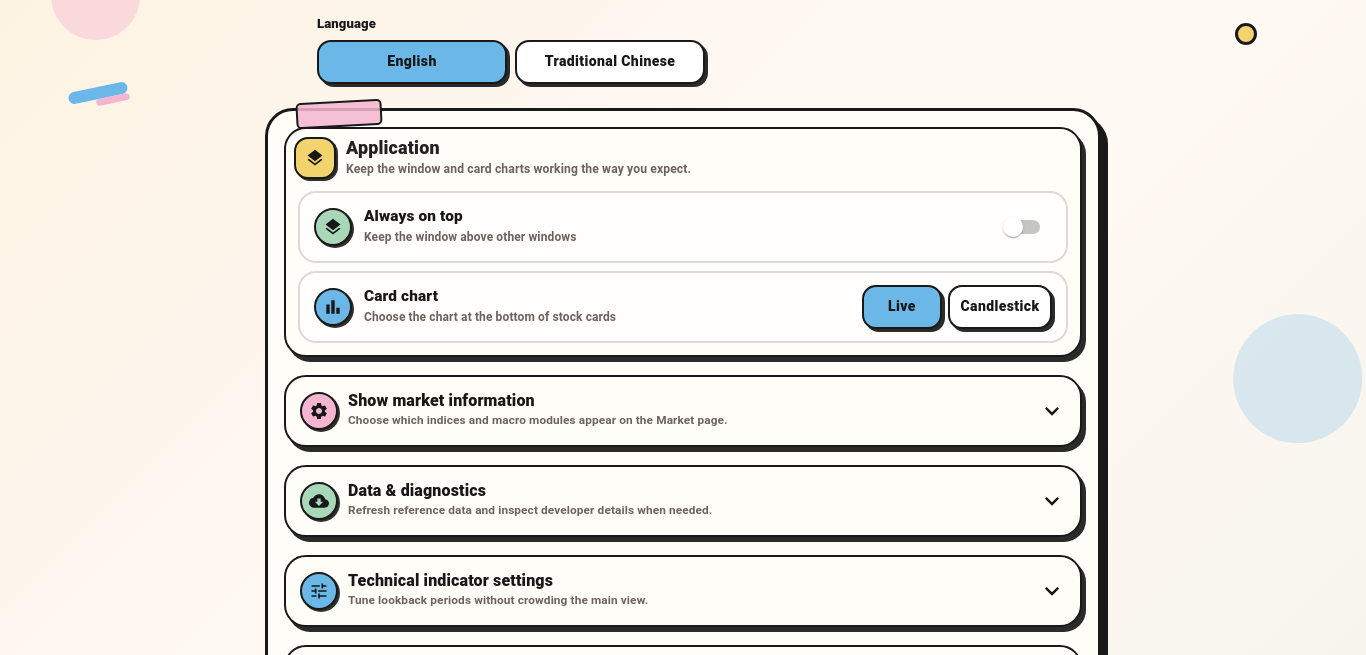
it: Settings page › ignores a same-turn double click while restore is in flight
Click the button "Data & diagnostics": (683, 500) [286,466,1080,534]
(page scrolled)
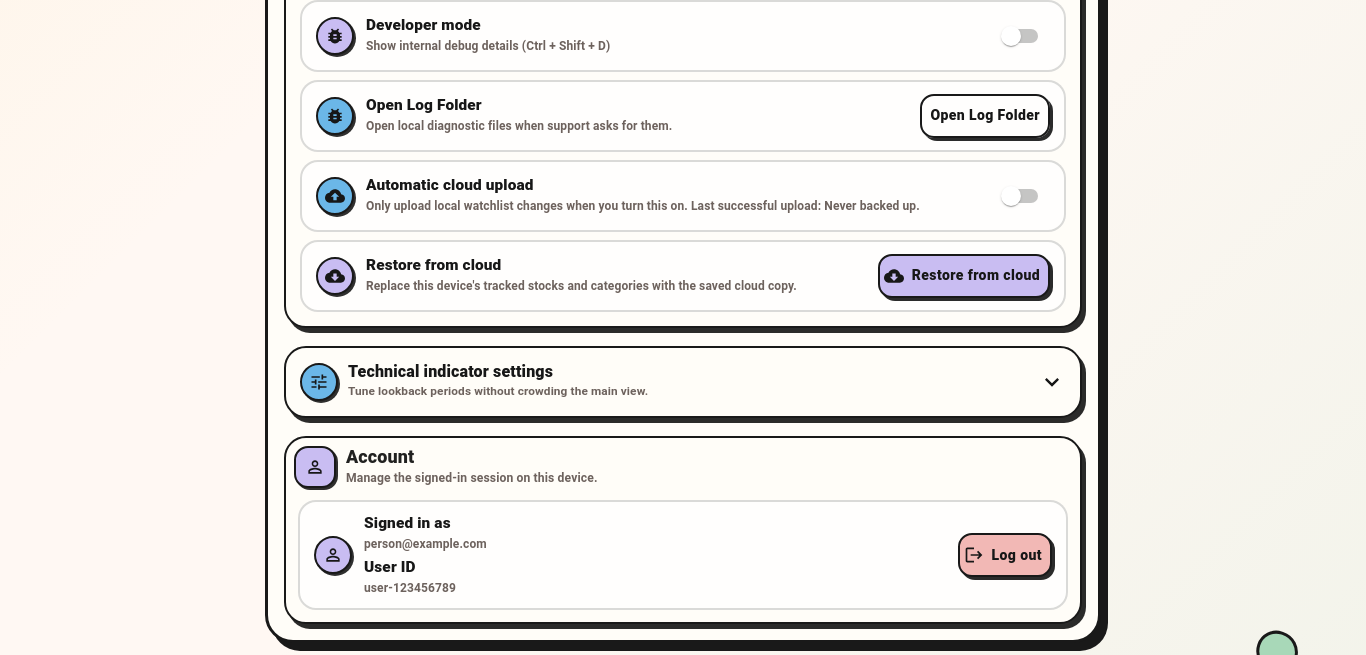
Click the button "Restore from cloud": (964, 276) [878,254,1050,298]
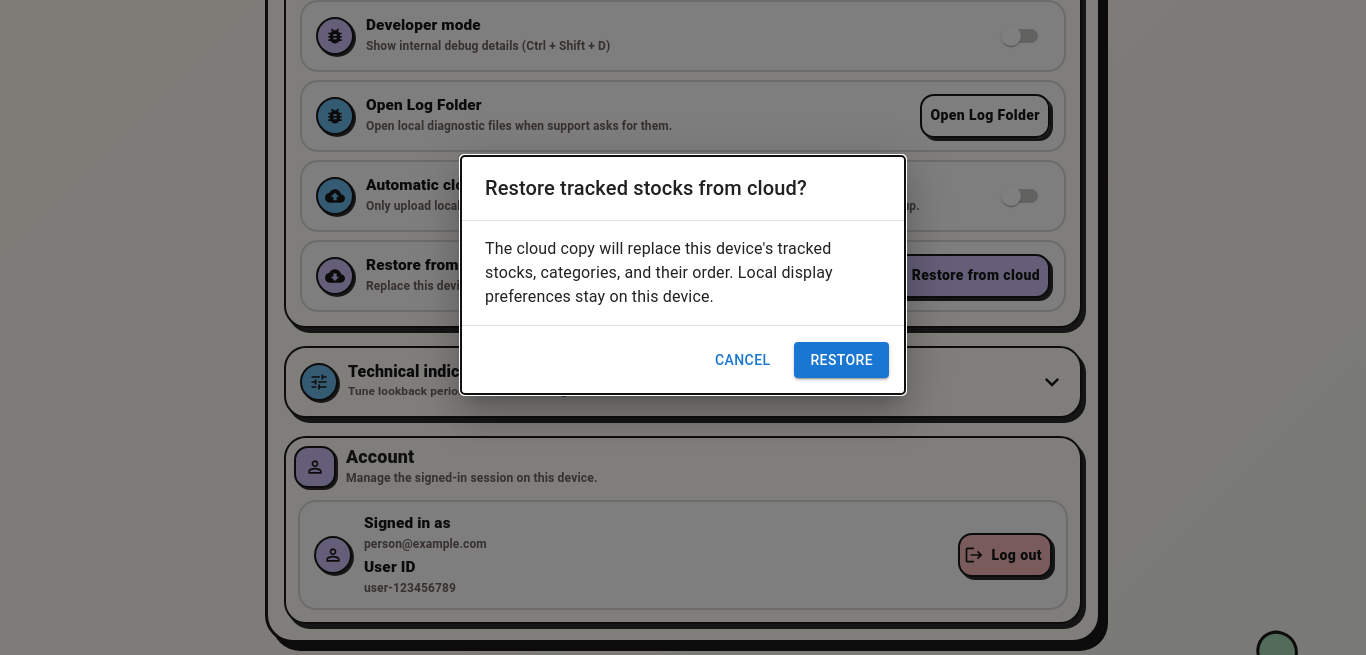
Click the button "Restore": (842, 360) [794,342,889,378]
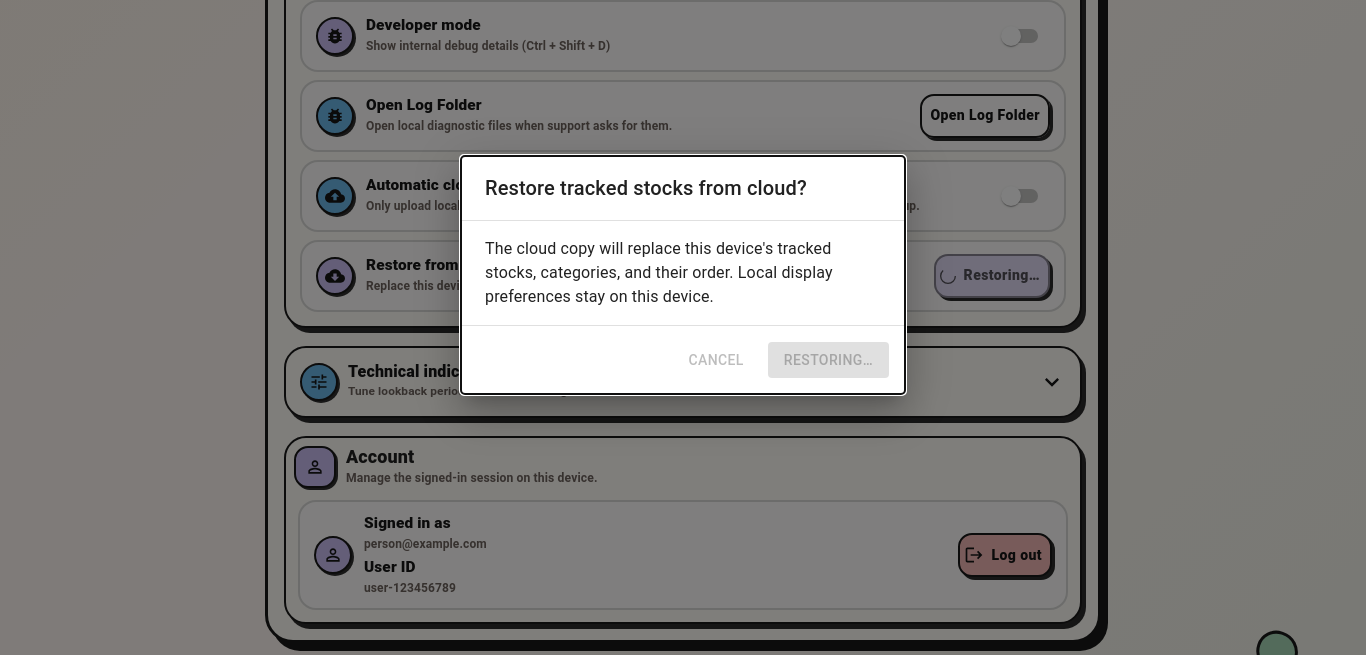
Click the button named "Restore": (828, 360) [768,342,889,378]
(page scrolled)
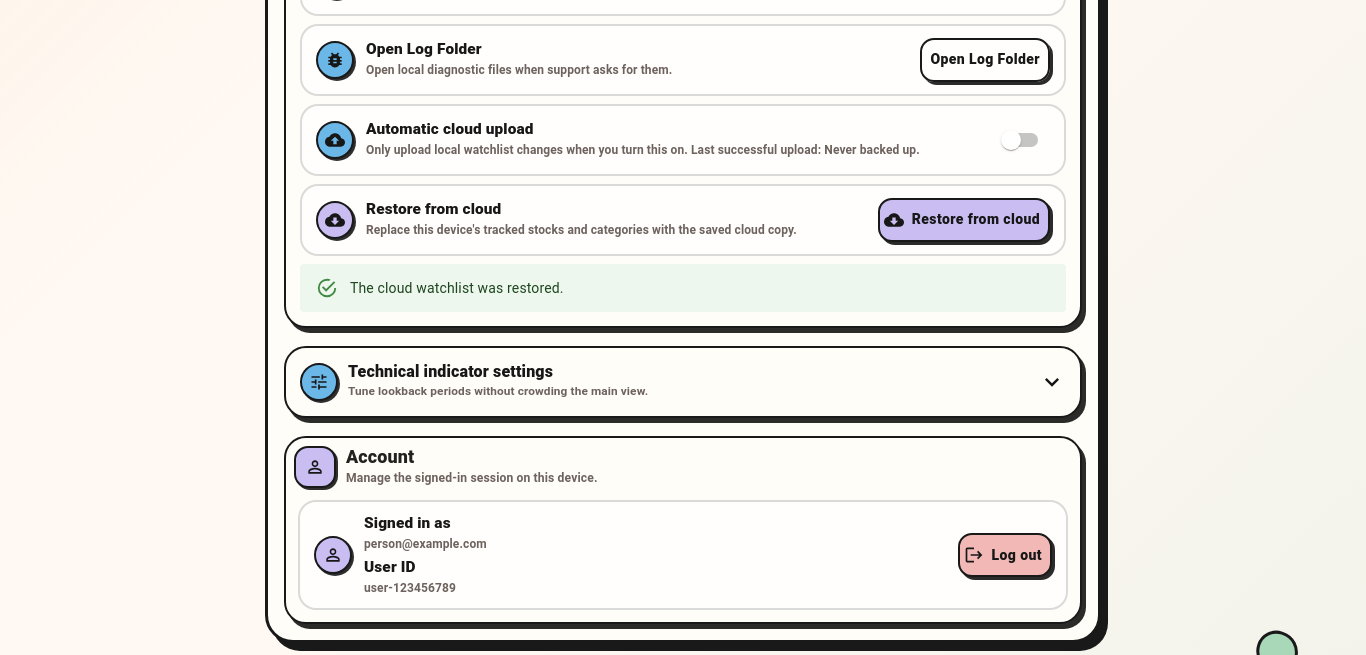
Check: the dialog is gone
